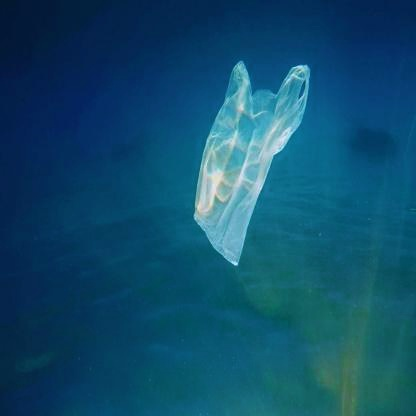pbag: (192, 52, 312, 272)
